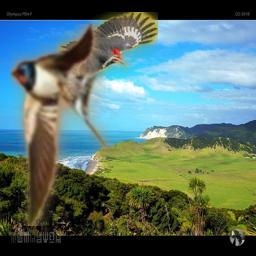Swallow: (10, 24, 131, 226)
Woodpecker: (56, 12, 158, 102)
